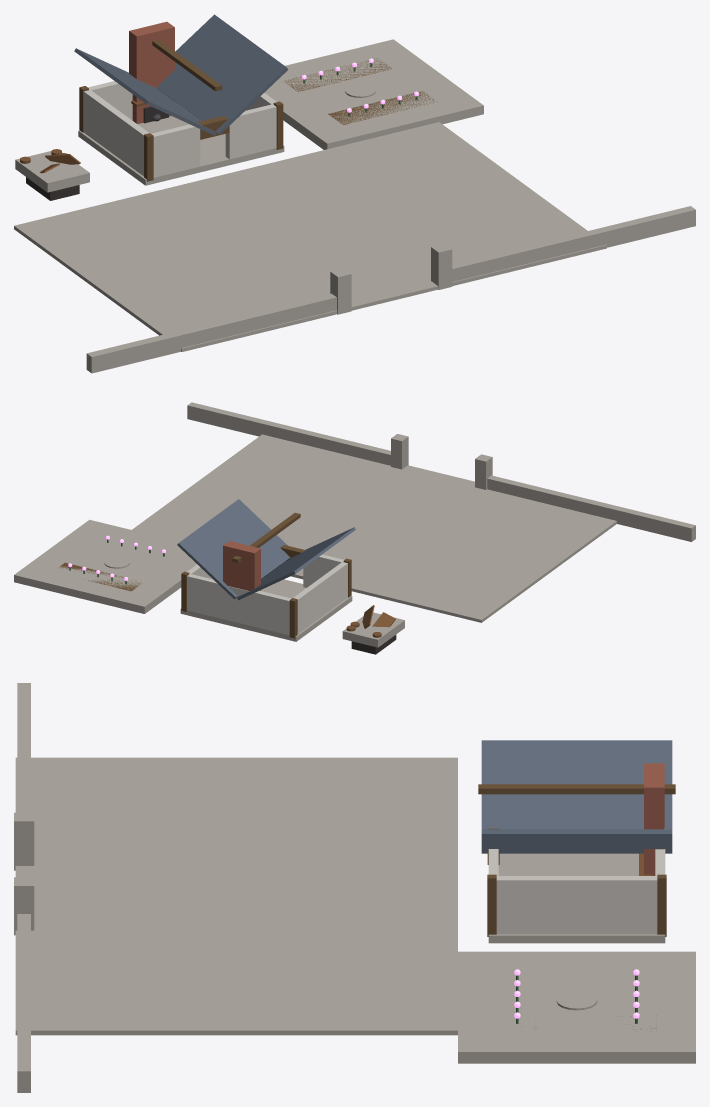
The model's file is mh1_hearth.glb.
3 renders of one model, top to bottom at view 1: azimuth 30°, elevation 25°; view 2: azimuth 150°, elevation 25°; view 3: azimuth 270°, elevation 25°, orthographic. The views are drawn at different scales.
Visible parts, largest first — view 1: Glade_Combat_Paving, Garden_Perimeter_Wall, Cottage_Roof_East, Glade_Perimeter_Wall_-16.0, Glade_Perimeter_Wall_16.0, Cottage_WestWall, Cottage_Foundation, ChimneyBreast, Cottage_SouthWall_3.5, Cottage_SouthWall_-3.5, Cottage_Roof_West, Cellar_Stone_Rim (+6 smaller); view 2: Glade_Combat_Paving, Garden_Perimeter_Wall, Cottage_Roof_East, Cottage_NorthWall, Glade_Perimeter_Wall_-16.0, Glade_Perimeter_Wall_16.0, Cottage_WestWall, ChimneyBreast, Cottage_Foundation, Cottage_Roof_West, Cellar_Stone_Rim, Cottage_SouthWall_-3.5 (+4 smaller); view 3: Glade_Combat_Paving, Garden_Perimeter_Wall, Cottage_Roof_West, Cottage_EastWall, Cottage_Foundation, Cottage_Roof_East, Glade_Perimeter_Wall_16.0, Cottage_Roof_Ridge, Glade_Perimeter_Wall_-16.0, ChimneyBreast, Glade_Gatepost_-4.5, Glade_Gatepost_4.5 (+1 smaller).
Part boxes in pixels (box(x1,y1,x2,y2)): Glade_Combat_Paving: box(14, 122, 606, 351); Garden_Perimeter_Wall: box(264, 39, 483, 149); Cottage_Roof_East: box(156, 14, 288, 134); Glade_Perimeter_Wall_-16.0: box(86, 293, 336, 373); Glade_Perimeter_Wall_16.0: box(452, 206, 695, 281); Cottage_WestWall: box(83, 90, 149, 176); Cottage_Foundation: box(78, 109, 284, 185); ChimneyBreast: box(129, 21, 174, 123); Cottage_SouthWall_3.5: box(225, 104, 276, 159); Cottage_SouthWall_-3.5: box(151, 124, 200, 177); Cottage_Roof_West: box(74, 48, 216, 135); Cellar_Stone_Rim: box(15, 151, 89, 192); Glade_Combat_Paving: box(132, 434, 616, 622); Garden_Perimeter_Wall: box(14, 519, 196, 613); Cottage_Roof_East: box(177, 499, 290, 599); Cottage_NorthWall: box(187, 573, 291, 635); Glade_Perimeter_Wall_-16.0: box(487, 475, 695, 541); Glade_Perimeter_Wall_16.0: box(187, 402, 390, 465); Cottage_WestWall: box(293, 561, 347, 633); ChimneyBreast: box(223, 541, 260, 590); Cottage_Foundation: box(180, 578, 352, 641); Cottage_Roof_West: box(237, 527, 355, 600); Cellar_Stone_Rim: box(342, 612, 404, 647); Cottage_SouthWall_-3.5: box(303, 554, 343, 587); Glade_Combat_Paving: box(15, 757, 457, 1035); Garden_Perimeter_Wall: box(458, 951, 695, 1063); Cottage_Roof_West: box(481, 740, 672, 829); Cottage_EastWall: box(496, 876, 657, 934); Cottage_Foundation: box(488, 853, 665, 943); Cottage_Roof_East: box(481, 829, 672, 853); Glade_Perimeter_Wall_16.0: box(17, 914, 30, 1092); Cottage_Roof_Ridge: box(478, 784, 675, 794); Glade_Perimeter_Wall_-16.0: box(17, 683, 30, 812); ChimneyBreast: box(644, 763, 664, 875); Glade_Gatepost_-4.5: box(14, 812, 34, 870); Glade_Gatepost_4.5: box(14, 877, 34, 935).
Size of the model in its own units: 54 by 9.1 by 40.1.
